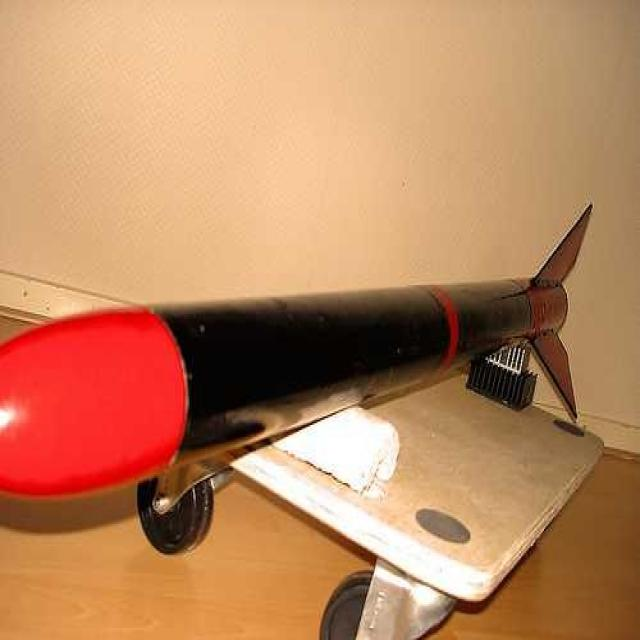missile: (1, 209, 598, 497)
